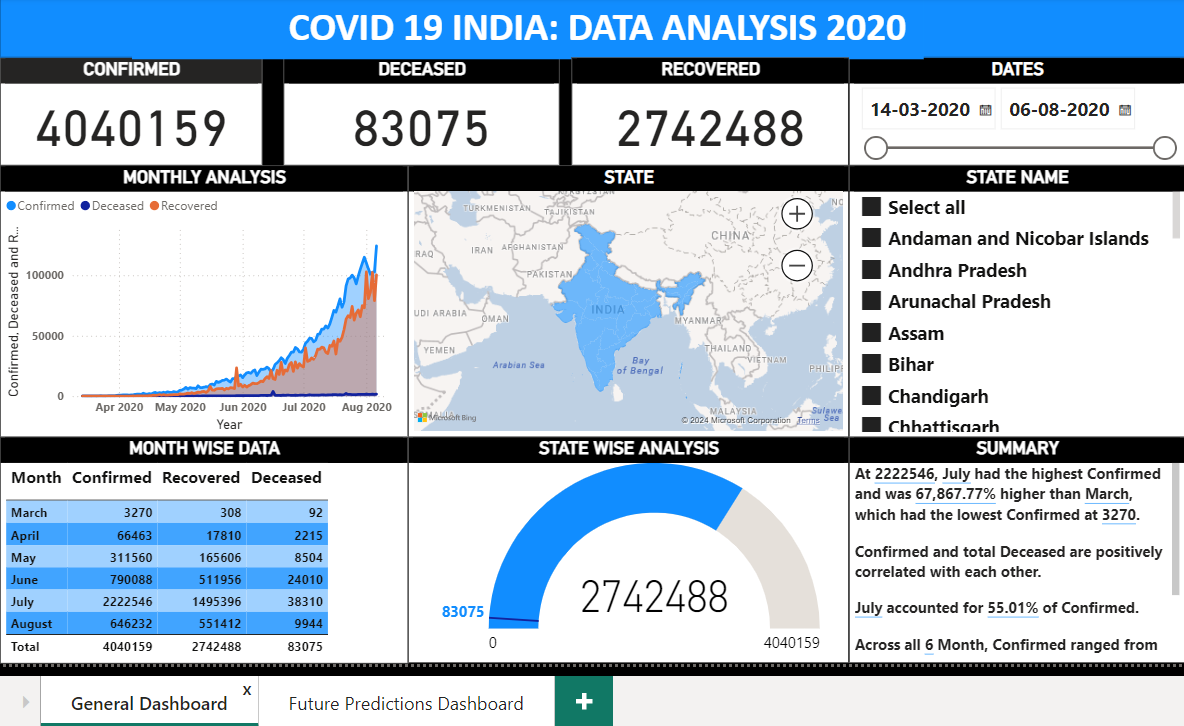

This screenshot's page, from the dashboard's own definition file:
{"tool":"powerbi","page":{"name":"General Dashboard","canvas":[1280,720],"ordinal":0},"visuals":[{"type":"filledMap","title":"STATE","fields":{"Category":["state_level_daily.State_Name"]},"box":[440.4,183,476.1,293.1],"z":0},{"type":"slicer","title":"DATES","fields":{"Values":["state_level_daily.Date"]},"box":[916.5,66.4,362.7,116.6],"z":1000},{"type":"lineChart","title":"MONTHLY ANALYSIS","fields":{"Y":["Sum(state_level_daily.Confirmed)","Sum(state_level_daily.Deceased)","Sum(state_level_daily.Recovered)"],"Category":["state_level_daily.Date.Variation.Date Hierarchy.Year","state_level_daily.Date.Variation.Date Hierarchy.Quarter","state_level_daily.Date.Variation.Date Hierarchy.Month","state_level_daily.Date.Variation.Date Hierarchy.Day"]},"box":[0,183,440.4,293.1],"z":2000},{"type":"slicer","title":"STATE NAME","fields":{"Values":["state_level_daily.State_Name"]},"box":[916.5,183,362.7,293.1],"z":3000},{"type":"card","title":"CONFIRMED","fields":{"Values":["Sum(state_level_daily.Confirmed)"]},"box":[0,66.4,283.4,116.6],"z":4000},{"type":"card","title":"DECEASED","fields":{"Values":["Sum(state_level_daily.Deceased)"]},"box":[306,66.4,297.9,116.6],"z":5000},{"type":"shape","box":[0,0,1279.2,66.4],"z":6000},{"type":"textbox","box":[142.5,1.6,855,66.4],"z":7000},{"type":"gauge","title":"STATE WISE ANALYSIS","fields":{"MaxValue":["Sum(state_level_daily.Confirmed)"],"Y":["Sum(state_level_daily.Recovered)"],"TargetValue":["Sum(state_level_daily.Deceased)"]},"box":[440,476,476,244],"z":8000},{"type":"textbox","title":"SUMMARY","box":[916,476,363,244],"z":9000},{"type":"card","title":"RECOVERED","fields":{"Values":["Sum(state_level_daily.Recovered)"]},"box":[616.9,66.4,299.6,116.6],"z":10000},{"type":"tableEx","title":"MONTH WISE DATA","fields":{"Values":["state_level_daily.Date.Variation.Date Hierarchy.Month","Sum(state_level_daily.Confirmed)","Sum(state_level_daily.Recovered)","Sum(state_level_daily.Deceased)"]},"box":[0,476.1,440.4,244.5],"z":11000}]}

Visuals, with their boxes on the page's 1280x720 design canvas (x1, y1, x2, y2). These are canvas units, not pixel positions in the 1184x726 screenshot, which may show the page scaled, cropped or inside an application window:
"STATE" filledMap: (440,183,916,476)
"DATES" slicer: (916,66,1279,183)
"MONTHLY ANALYSIS" lineChart: (0,183,440,476)
"STATE NAME" slicer: (916,183,1279,476)
"CONFIRMED" card: (0,66,283,183)
"DECEASED" card: (306,66,604,183)
shape: (0,0,1279,66)
textbox: (142,2,998,68)
"STATE WISE ANALYSIS" gauge: (440,476,916,720)
"SUMMARY" textbox: (916,476,1279,720)
"RECOVERED" card: (617,66,916,183)
"MONTH WISE DATA" tableEx: (0,476,440,721)
